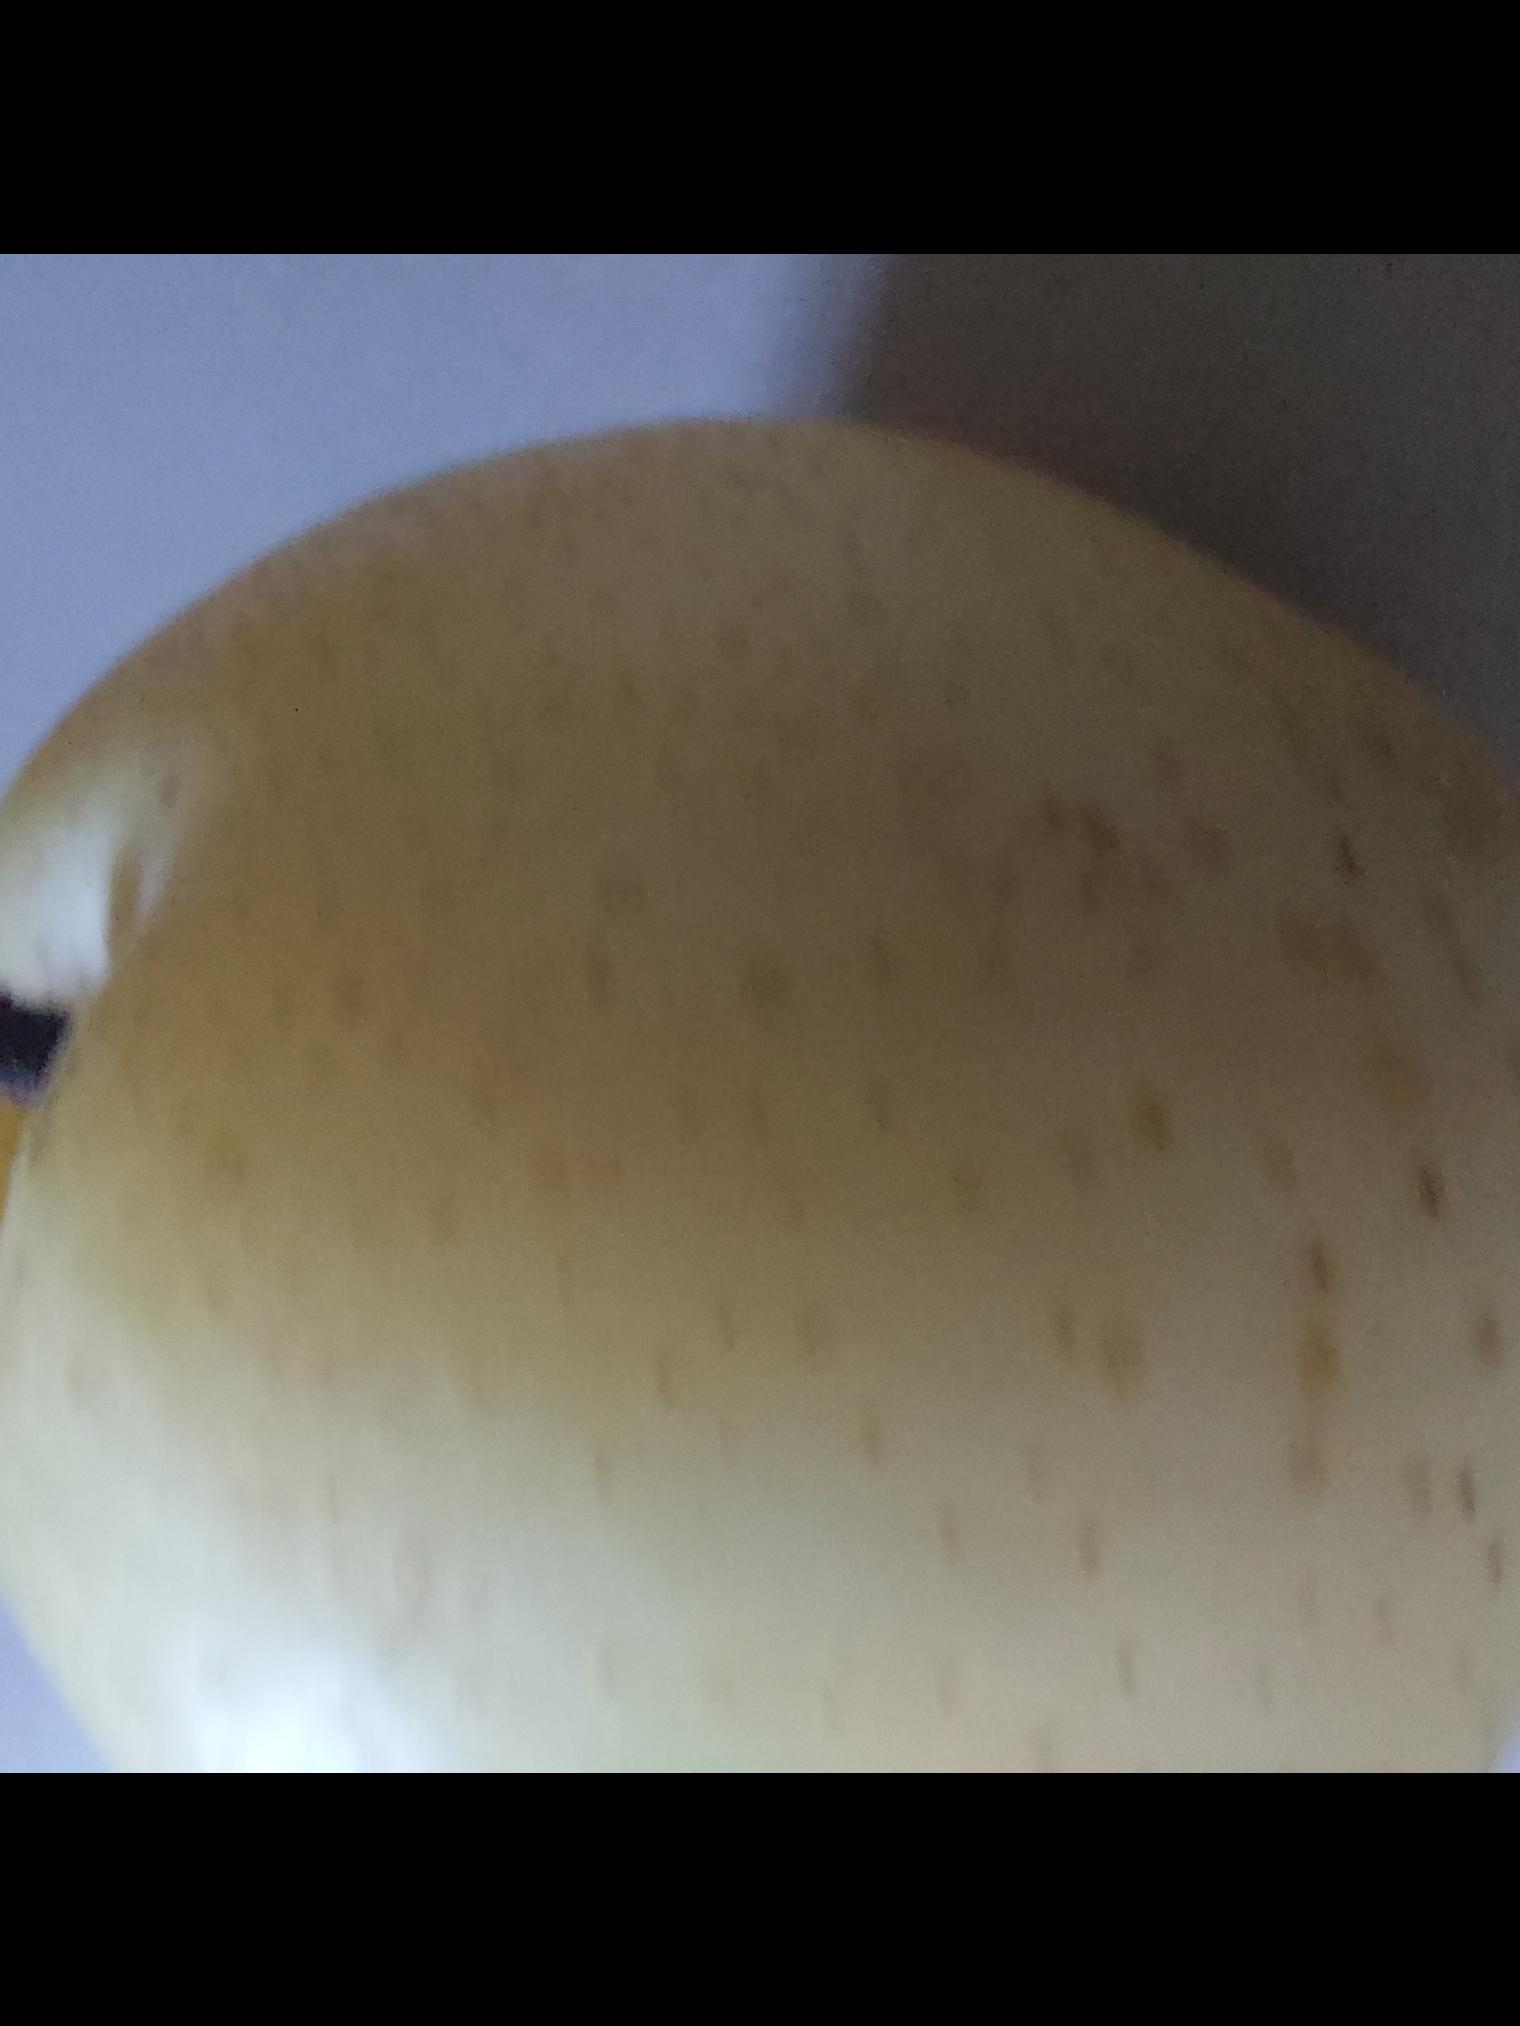Good Pear: (0, 338, 1520, 1774)
